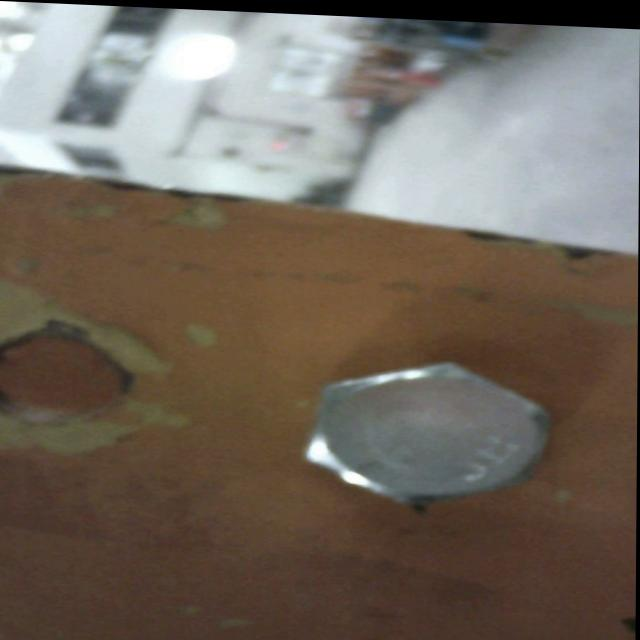Missing bolt: (1, 320, 137, 434)
Regular bolt: (299, 349, 554, 509)
